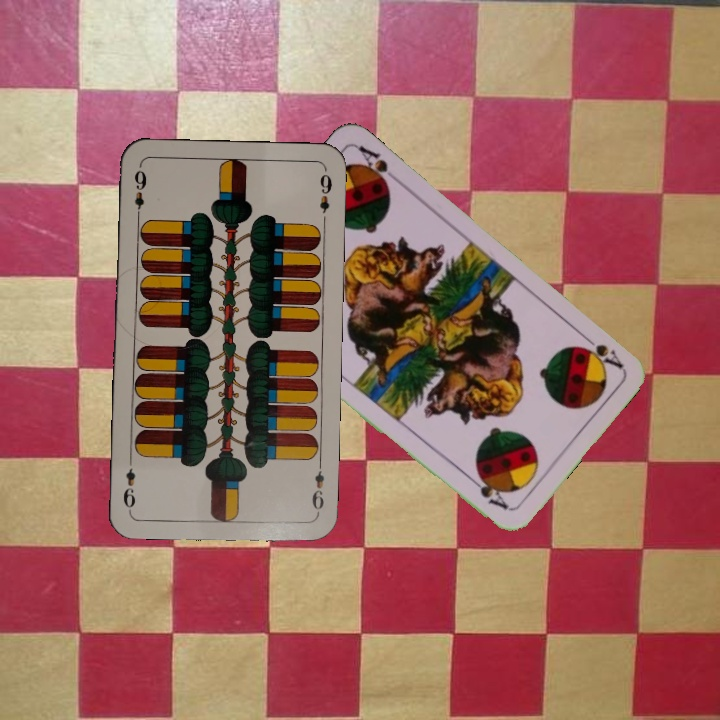E9: (307, 458, 327, 517), (130, 166, 150, 222)
SA: (575, 328, 626, 371)
